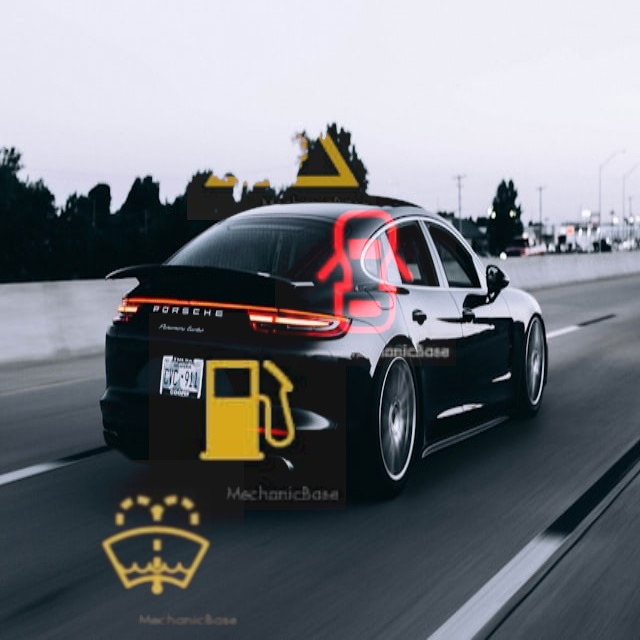symbol: (149, 313, 346, 510), (187, 31, 376, 220), (275, 185, 456, 366), (70, 460, 244, 634)
